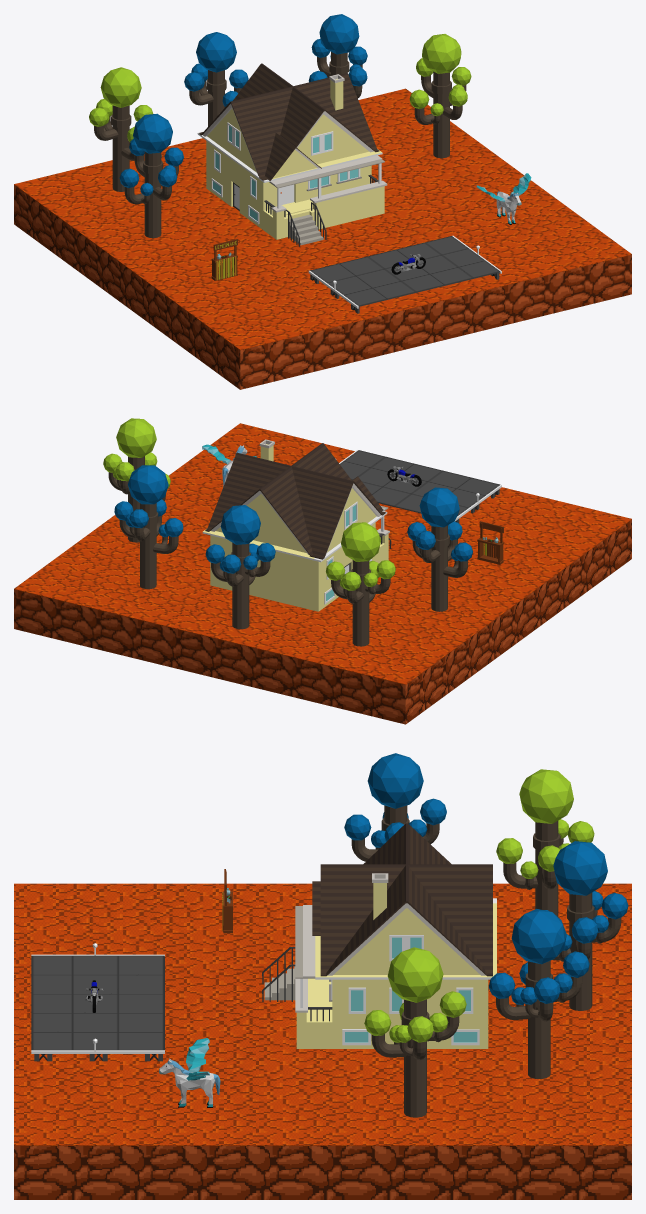
The picture shows the model from 3 angles, top to bottom: view 1: azimuth 30°, elevation 25°; view 2: azimuth 150°, elevation 25°; view 3: azimuth 270°, elevation 25°; orthographic projection. The views are drawn at different scales.
Parts seen in each view (by area): view 1: Cube.001, Cube.1555, ANIMAL_PEGASO, OBJRANDOM_LEMONADE_STAND; view 2: Cube.001, Cube.1555, OBJRANDOM_LEMONADE_STAND, ANIMAL_PEGASO; view 3: Cube.001, Cube.1555, ANIMAL_PEGASO.
Boxes of the visible parts, x1,y1,x2,y2 form: Cube.001: [14, 14, 631, 389]; Cube.1555: [197, 63, 387, 246]; ANIMAL_PEGASO: [476, 173, 531, 224]; OBJRANDOM_LEMONADE_STAND: [211, 239, 237, 280]; Cube.001: [14, 418, 631, 724]; Cube.1555: [202, 439, 391, 611]; OBJRANDOM_LEMONADE_STAND: [477, 521, 503, 564]; ANIMAL_PEGASO: [202, 444, 256, 487]; Cube.001: [14, 753, 631, 1199]; Cube.1555: [262, 823, 496, 1048]; ANIMAL_PEGASO: [159, 1038, 220, 1107].
Bounding box in the file's own units: 4000 × 1687 × 4000.
39 materials, 5 textured.
